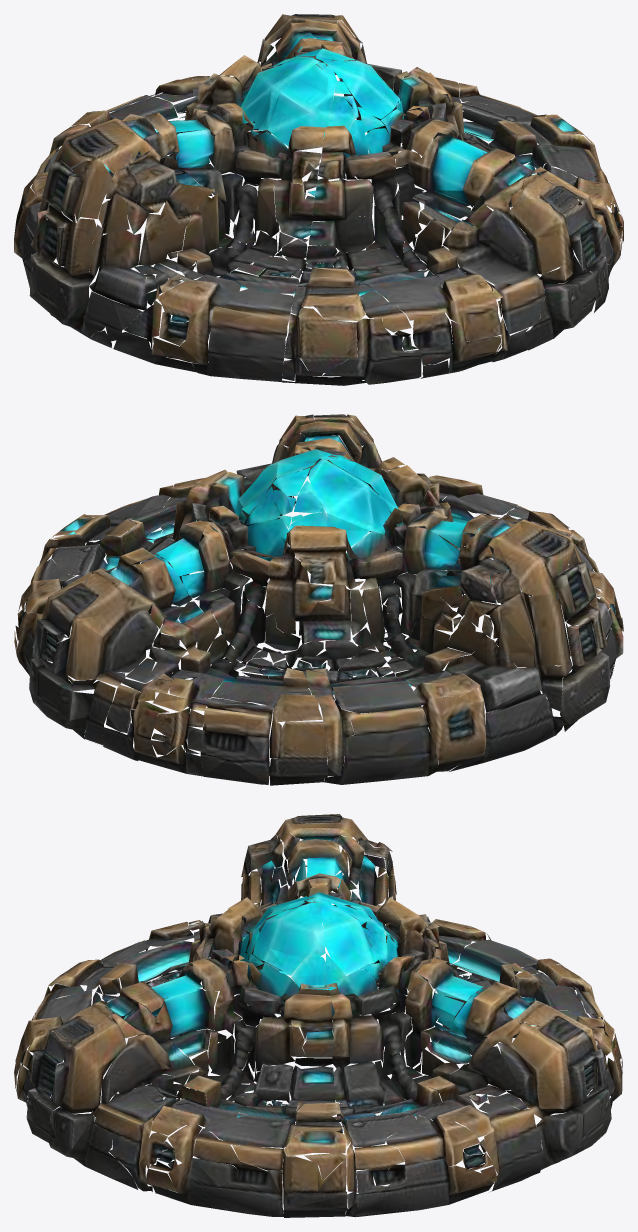
The model's file is building-energy-tier-1.glb.
The picture shows the model from 3 angles, top to bottom: view 1: azimuth 30°, elevation 25°; view 2: azimuth 150°, elevation 25°; view 3: azimuth 270°, elevation 25°; orthographic projection. The views are drawn at different scales.
Visible parts, largest first — view 1: building-energy-tier-1-body; view 2: building-energy-tier-1-body; view 3: building-energy-tier-1-body.
Boxes of the visible parts, bbox=[...] form: building-energy-tier-1-body: bbox=[14, 14, 623, 385]; building-energy-tier-1-body: bbox=[14, 414, 623, 785]; building-energy-tier-1-body: bbox=[14, 814, 622, 1217].
Bounding box in the file's own units: 1 × 0.357 × 0.9934.
1 material, 1 textured.
